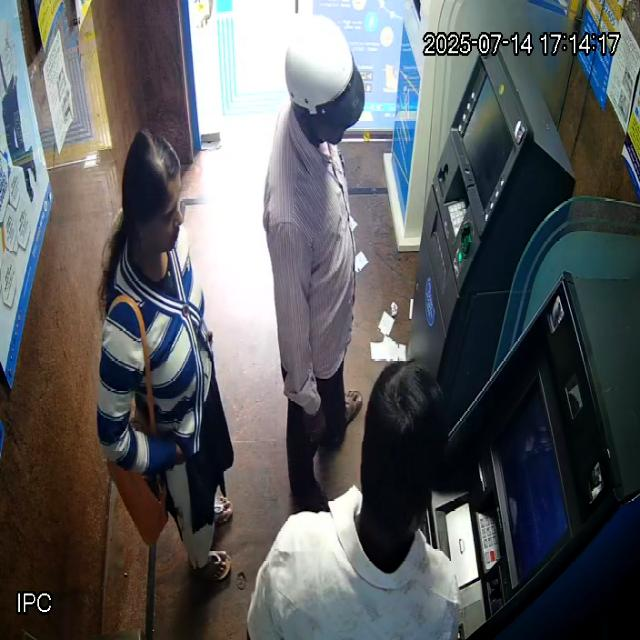helmet: (284, 20, 366, 149)
no_helmet: (355, 359, 449, 573), (123, 130, 183, 281)
